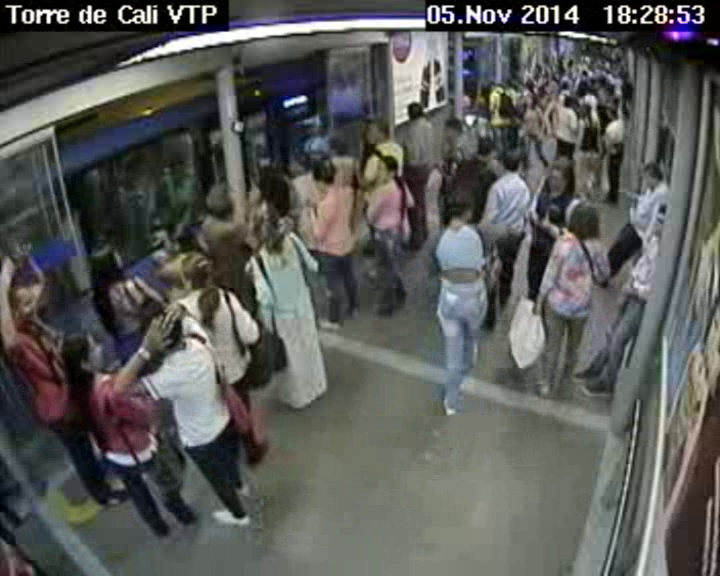person: (53, 329, 103, 379), (142, 303, 190, 355), (85, 238, 127, 290), (173, 253, 218, 293), (247, 200, 285, 247), (253, 166, 289, 204), (6, 283, 37, 324), (201, 182, 234, 220), (444, 187, 475, 224), (571, 201, 599, 236), (547, 160, 575, 195), (310, 158, 335, 192), (372, 154, 400, 184), (365, 116, 393, 145), (652, 204, 668, 241), (476, 137, 496, 164), (442, 116, 462, 143), (502, 148, 524, 172), (642, 163, 661, 189), (288, 149, 309, 172), (406, 101, 422, 118), (604, 103, 619, 121), (563, 95, 578, 109), (522, 93, 536, 107), (524, 77, 537, 92), (580, 101, 592, 116), (467, 82, 478, 98), (535, 85, 546, 97), (579, 85, 591, 95), (559, 78, 569, 89), (488, 82, 497, 91)
